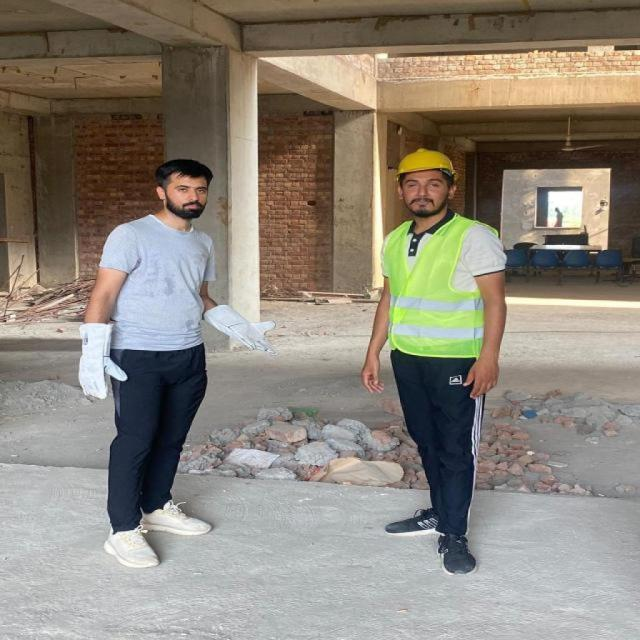Gloves-Detection: (64, 320, 130, 400), (212, 305, 276, 363)
